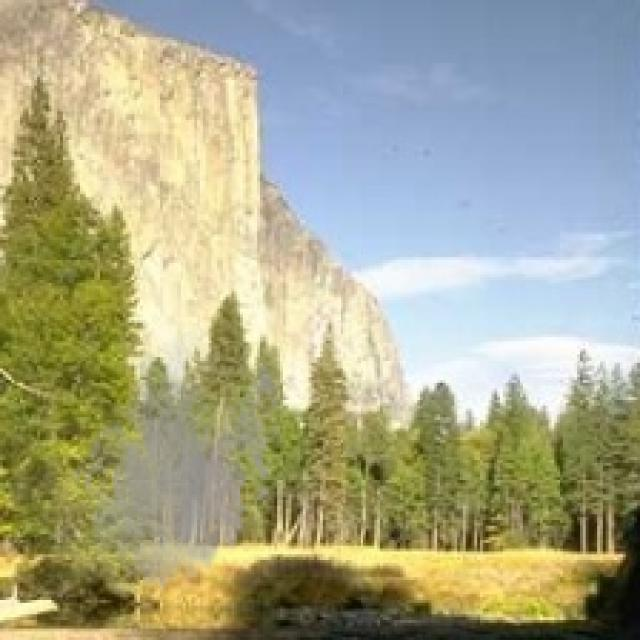Smoke: (68, 323, 283, 603)
